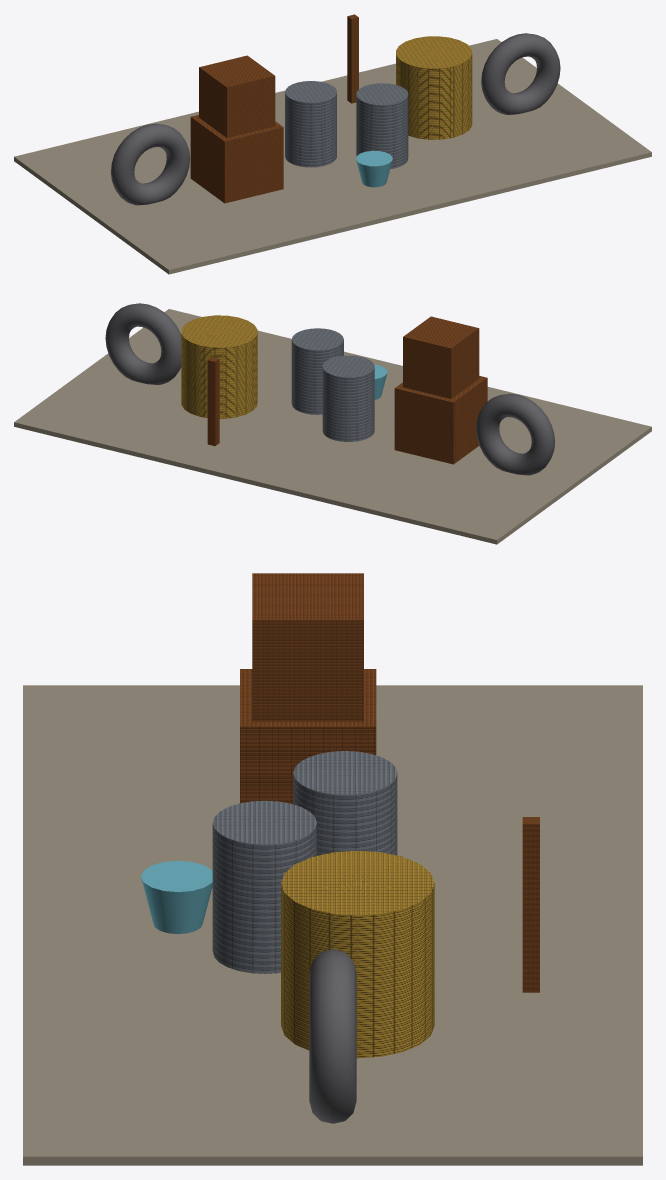
File: clunk-ready-sample.glb
3 views of the same model, one above another, from view 1: azimuth 30°, elevation 25°; view 2: azimuth 150°, elevation 25°; view 3: azimuth 270°, elevation 25° (orthographic). The views are drawn at different scales.
Visible parts, largest first — view 1: Ground, HayBale, Crate_A, Crate_B, Barrel_A, Wheel_Front, Wheel_Rear, Barrel_B, Bucket, Fence; view 2: Ground, HayBale, Crate_A, Crate_B, Barrel_A, Wheel_Front, Wheel_Rear, Barrel_B, Fence, Bucket; view 3: Ground, HayBale, Crate_B, Barrel_B, Barrel_A, Crate_A, Wheel_Rear, Bucket, Fence.
Boxes of the visible parts, box(x1,y1,x2,y2) form: Ground: box(14, 39, 651, 274); HayBale: box(396, 36, 472, 139); Crate_A: box(190, 115, 283, 203); Crate_B: box(199, 55, 275, 137); Barrel_A: box(285, 81, 336, 167); Wheel_Front: box(111, 123, 189, 205); Wheel_Rear: box(481, 33, 560, 114); Barrel_B: box(356, 83, 408, 169); Bucket: box(356, 150, 392, 187); Fence: box(347, 14, 358, 103); Ground: box(14, 309, 651, 544); HayBale: box(181, 315, 257, 418); Crate_A: box(394, 376, 487, 464); Crate_B: box(403, 316, 479, 398); Barrel_A: box(322, 355, 374, 441); Wheel_Front: box(476, 393, 554, 475); Wheel_Rear: box(105, 303, 181, 384); Barrel_B: box(291, 328, 343, 414); Fence: box(207, 357, 219, 445); Bucket: box(374, 364, 387, 399); Ground: box(23, 685, 642, 1165); HayBale: box(281, 850, 434, 1058); Crate_B: box(252, 573, 363, 721); Barrel_B: box(212, 800, 316, 973); Barrel_A: box(293, 751, 397, 855); Crate_A: box(240, 669, 376, 804); Wheel_Rear: box(309, 949, 356, 1123); Bucket: box(141, 860, 212, 933); Fence: box(522, 817, 539, 992).
Bounding box in the file's own units: 9 × 2.11 × 5.
6 materials, 3 textured.
